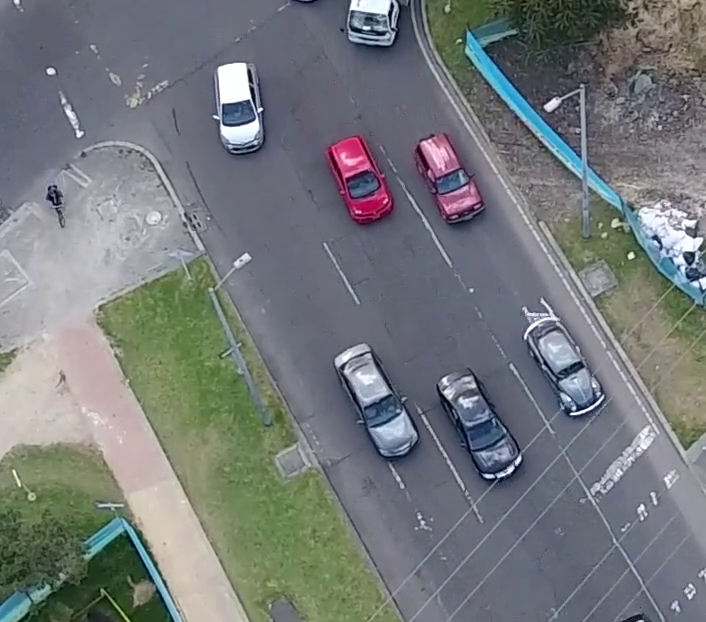car: (332, 342, 420, 463), (432, 369, 524, 484), (520, 313, 607, 422), (412, 130, 487, 228), (327, 134, 395, 226), (210, 55, 265, 157)
